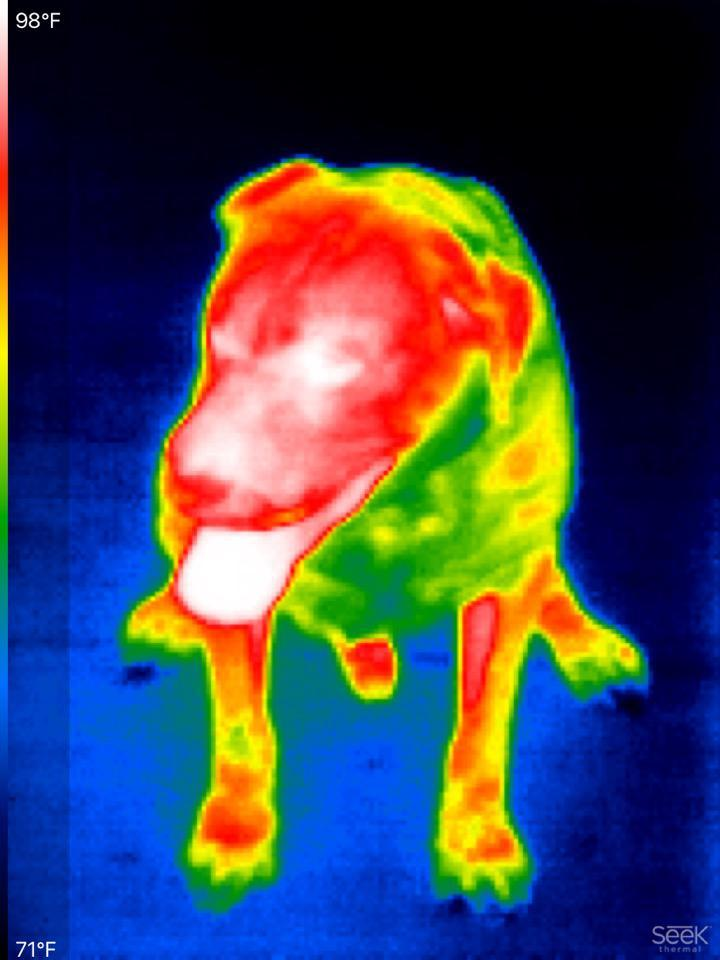dog: (119, 142, 658, 925)
